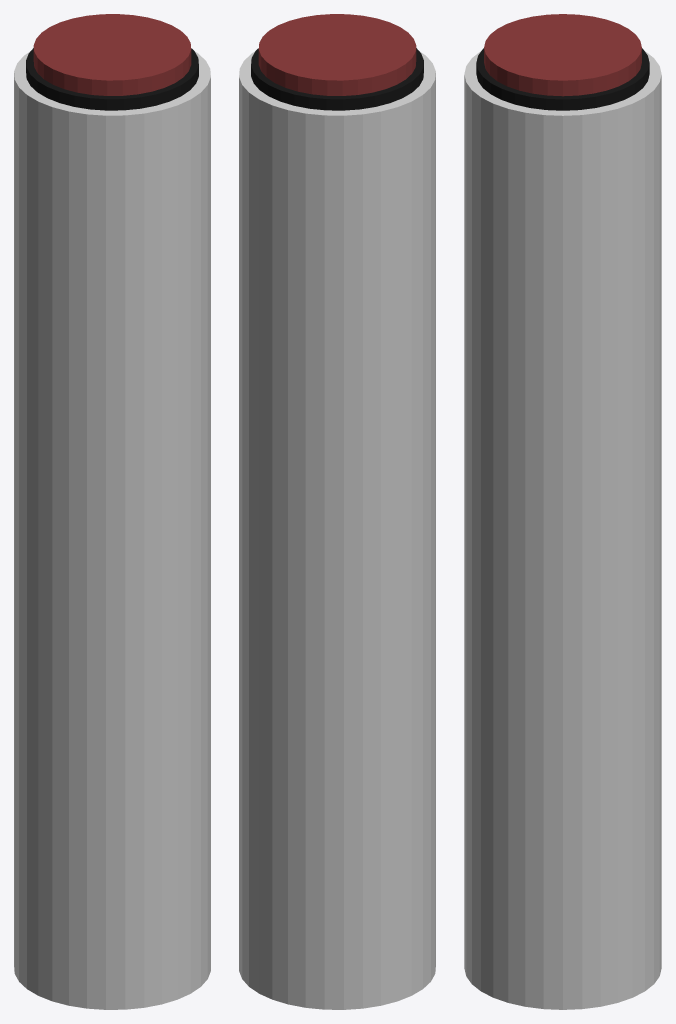
The model's file is PushButton.glb.
3 renders of one model, left to right at view 1: azimuth 30°, elevation 25°; view 2: azimuth 150°, elevation 25°; view 3: azimuth 270°, elevation 25°, orthographic.
Visible parts, largest first — view 1: Base, Push; view 2: Base, Push; view 3: Base, Push.
Part boxes in pixels (x1,y1,x2,y2): Base: (14,48,210,1009); Push: (33,14,191,95); Base: (239,48,435,1009); Push: (258,14,416,95); Base: (464,48,661,1009); Push: (484,14,641,96).
Size of the model in its own units: 0.2 by 1.03 by 0.2.
